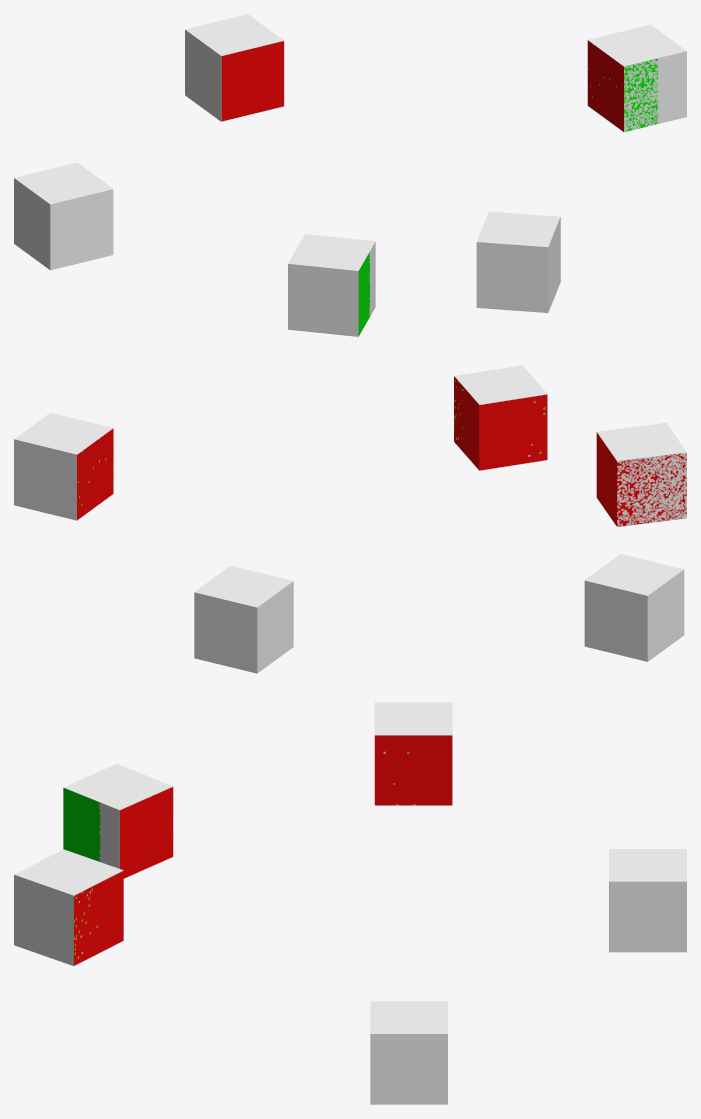
Rendered from FourCubes_textured.obj.
3 views of the same model, one above another, from view 1: azimuth 30°, elevation 25°; view 2: azimuth 150°, elevation 25°; view 3: azimuth 270°, elevation 25° (orthographic). The views are drawn at different scales.
Parts seen in each view (by area): view 1: Cube_Cube.011, Cube.001_Cube.012, Cube.003_Cube.014, Cube.004_Cube.015, Cube.002_Cube.013; view 2: Cube_Cube.011, Cube.001_Cube.012, Cube.003_Cube.014, Cube.002_Cube.013, Cube.004_Cube.015; view 3: Cube.002_Cube.013, Cube.004_Cube.015, Cube_Cube.011, Cube.001_Cube.012, Cube.003_Cube.014.
Boxes of the visible parts, left/top/right/bottom form: Cube_Cube.011: left=14, top=162, right=113, bottom=270; Cube.001_Cube.012: left=185, top=14, right=284, bottom=121; Cube.003_Cube.014: left=587, top=24, right=686, bottom=132; Cube.004_Cube.015: left=288, top=234, right=375, bottom=336; Cube.002_Cube.013: left=476, top=211, right=560, bottom=312; Cube_Cube.011: left=584, top=554, right=684, bottom=661; Cube.001_Cube.012: left=194, top=565, right=293, bottom=673; Cube.003_Cube.014: left=14, top=412, right=113, bottom=520; Cube.002_Cube.013: left=454, top=365, right=547, bottom=470; Cube.004_Cube.015: left=596, top=423, right=686, bottom=526; Cube.002_Cube.013: left=14, top=849, right=123, bottom=965; Cube.004_Cube.015: left=63, top=764, right=173, bottom=878; Cube_Cube.011: left=374, top=702, right=452, bottom=805; Cube.001_Cube.012: left=609, top=849, right=686, bottom=952; Cube.003_Cube.014: left=370, top=1001, right=447, bottom=1104.
Size of the model in its own units: 20.16 by 2 by 17.27.
5 materials, 5 textured.
